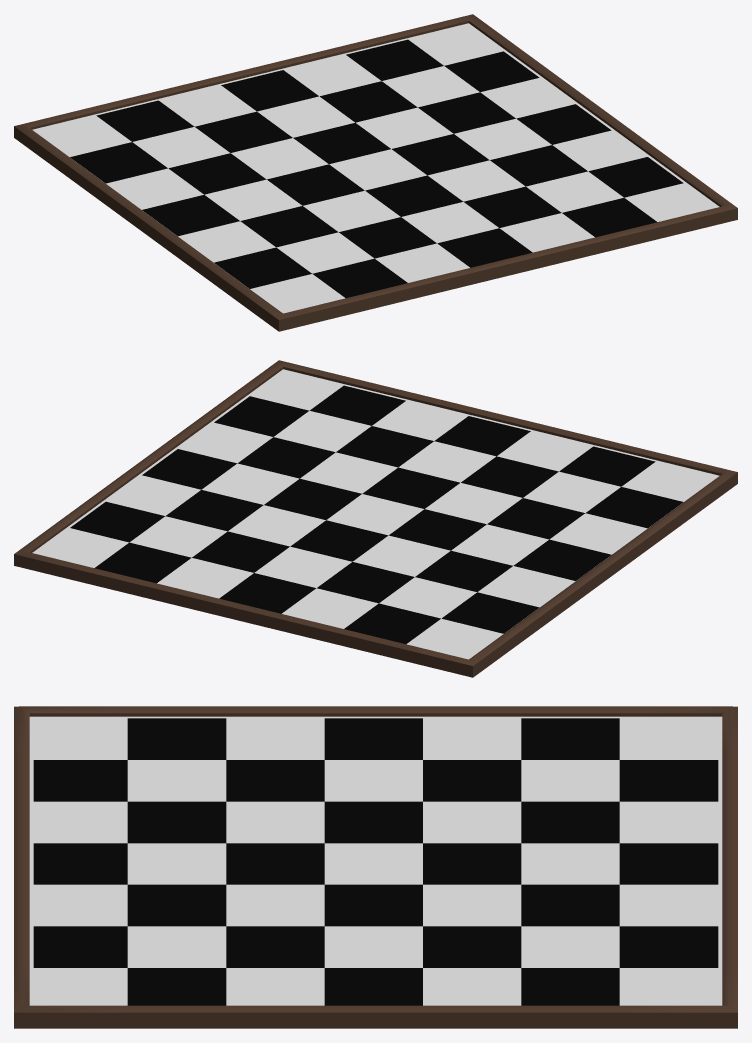
File: Layout.6.fbx
3 views of the same model, one above another, from view 1: azimuth 30°, elevation 25°; view 2: azimuth 150°, elevation 25°; view 3: azimuth 270°, elevation 25° (orthographic). The views are drawn at different scales.
Visible parts, largest first — view 1: Tabuleiro; view 2: Tabuleiro; view 3: Tabuleiro.
Part boxes in pixels (x1,y1,x2,y2): Tabuleiro: [14, 14, 737, 331]; Tabuleiro: [14, 360, 737, 677]; Tabuleiro: [14, 706, 737, 1028].
Bounding box in the file's own units: 3519 × 105 × 3519.
